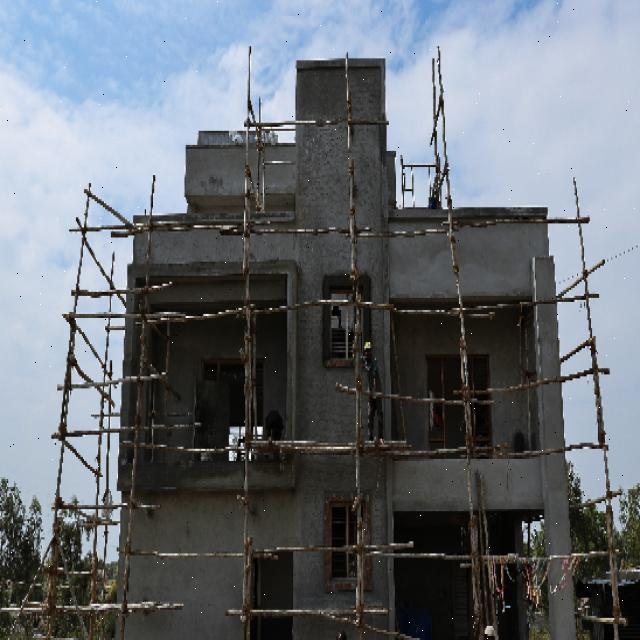Exterior Finishing: (159, 205, 516, 640)
